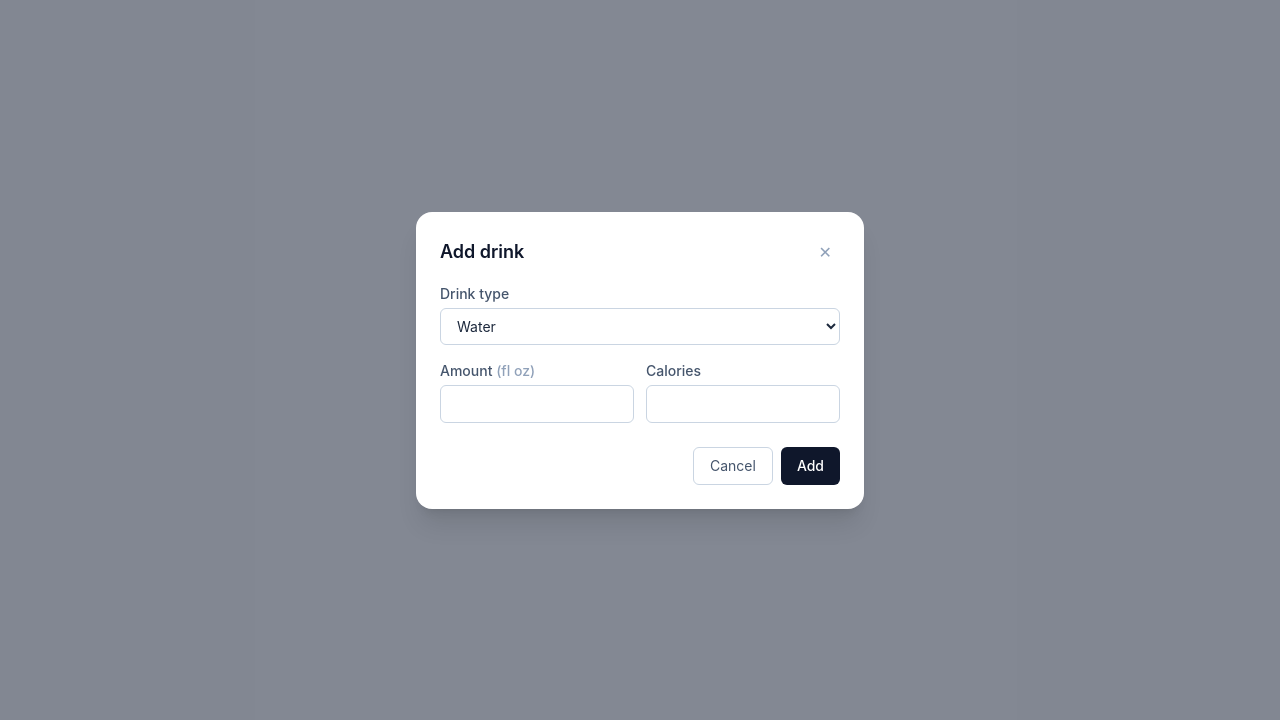
AddFluidModal › rejects negative calories
Type "8" into the number field labelled "Amount (fl oz)" at (537, 404), box [440,384,634,422]
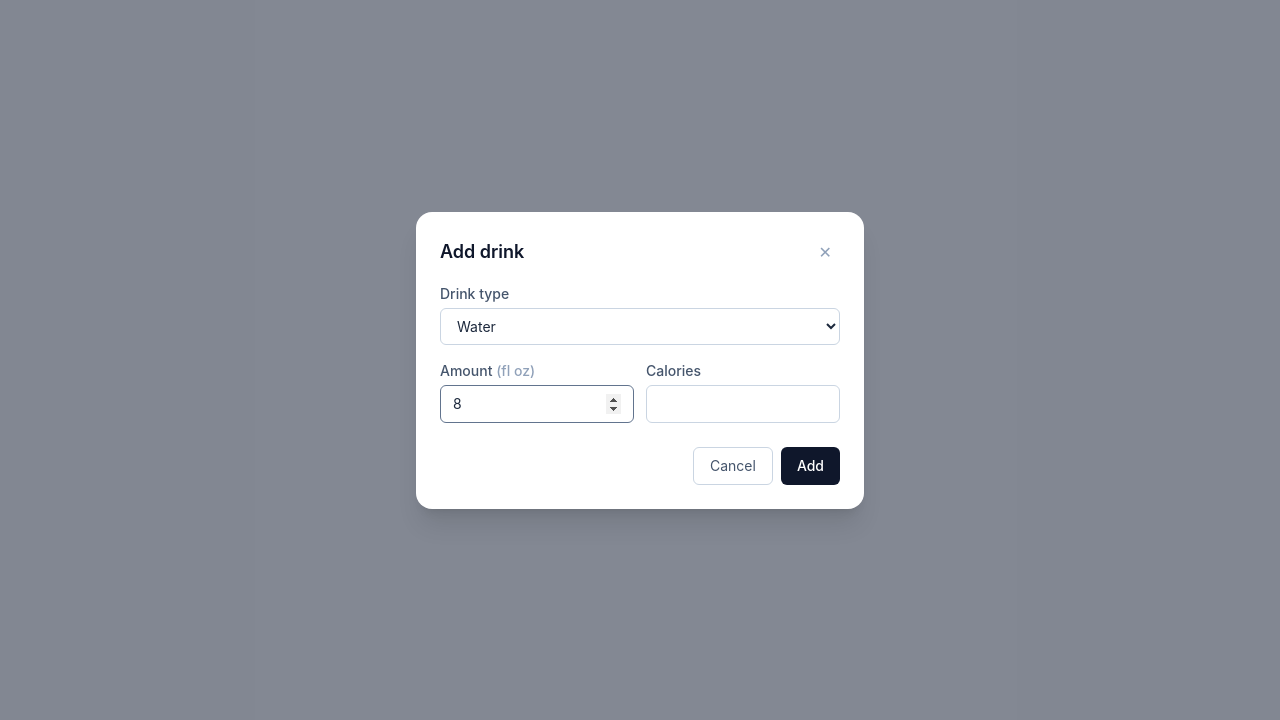
Type "-10" into the number field labelled "Calories" at (743, 404), box [646,384,840,422]
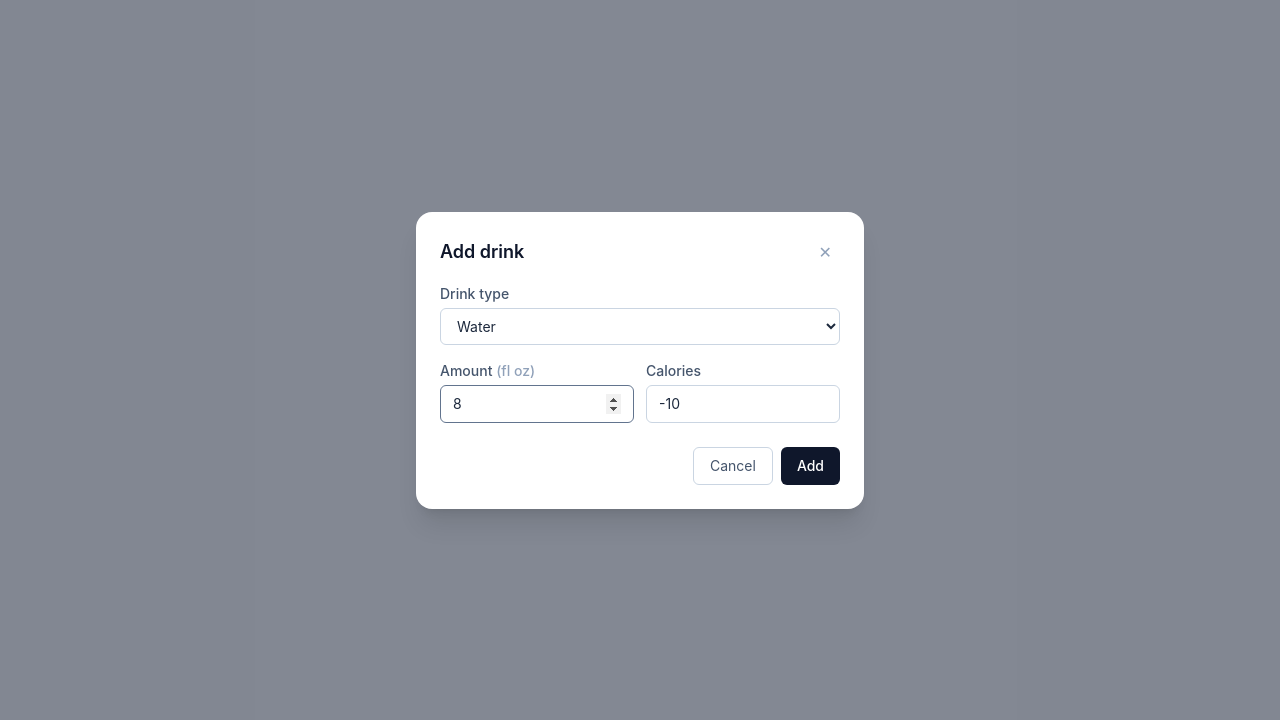
Click the button "Add" at (810, 466), box [781,446,840,484]
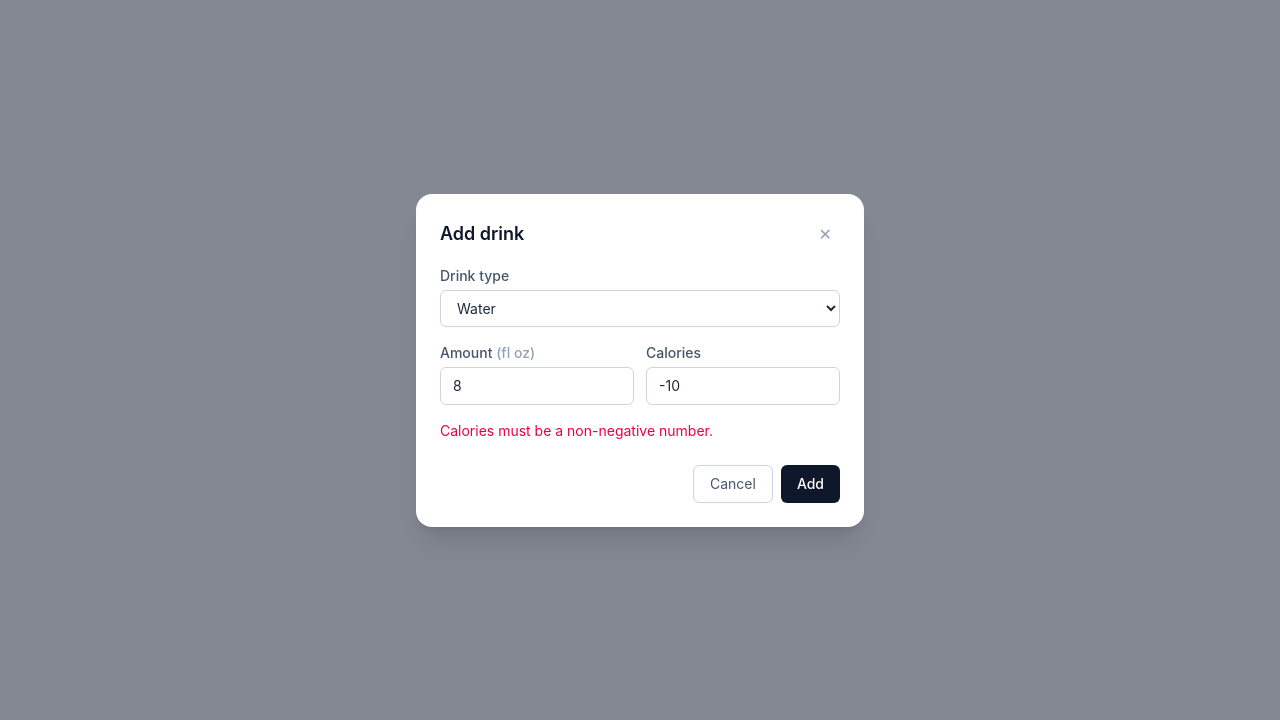
Expected: the message shows "Calories", [440,422,713,438]
